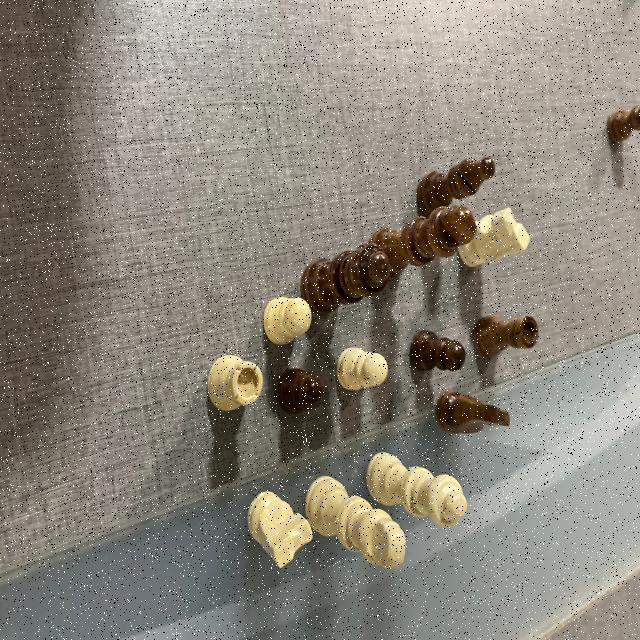Black-Bishop: (418, 153, 497, 213)
Black-King: (368, 202, 478, 276)
Black-Knight: (435, 388, 512, 436)
Black-Pawn: (276, 366, 328, 418), (408, 330, 466, 374), (606, 100, 640, 150)
Black-Queen: (301, 240, 391, 314)
Black-Rook: (472, 314, 540, 363)
White-King: (304, 472, 406, 572)
White-Knight: (246, 491, 314, 571), (459, 207, 532, 270)
White-Pawn: (263, 295, 315, 348), (336, 346, 388, 394)
White-Queen: (366, 450, 468, 528)
White-Rook: (207, 355, 265, 415)
